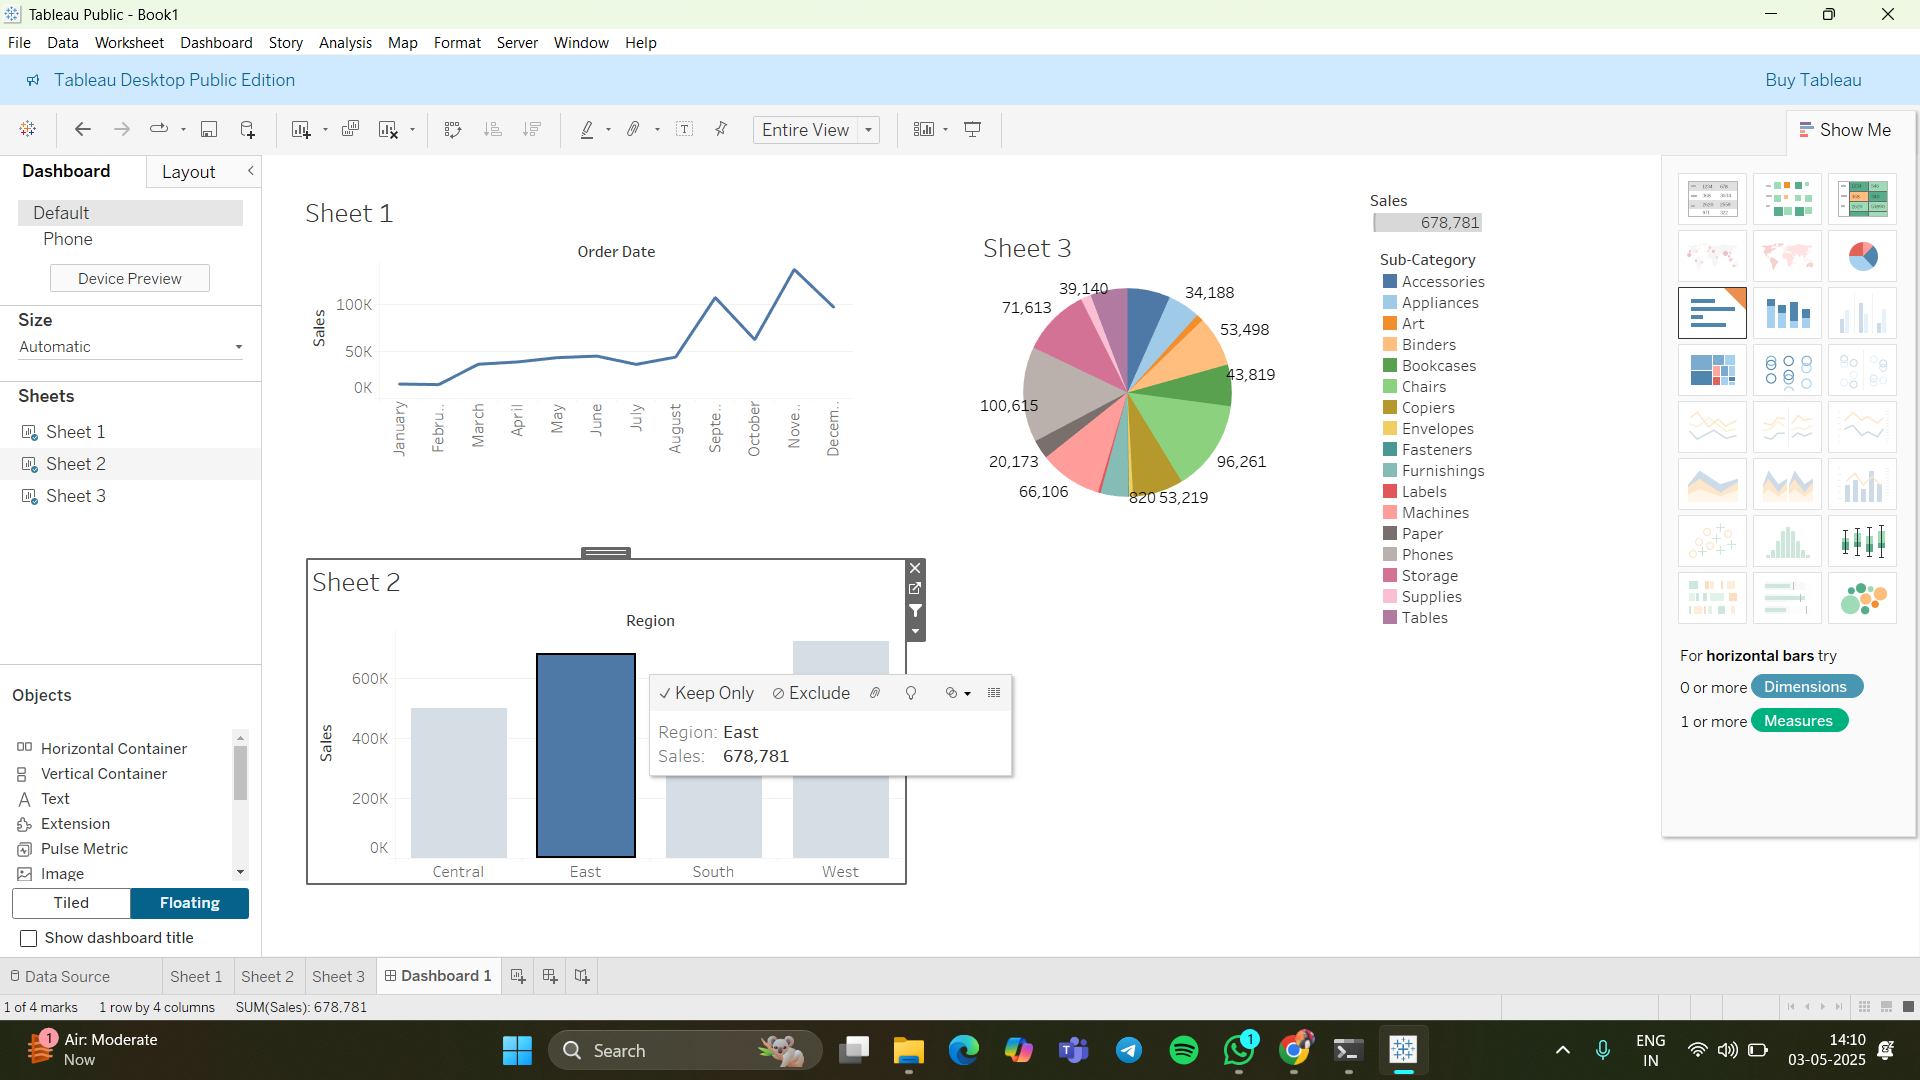

Layout of this report page (visuals, bound fields, positions):
{"tool":"tableau","page":{"name":"Dashboard 1","canvas":[1000,1000],"units":"permille","ordinal":0},"visuals":[{"type":"legend","title":"Sheet 3","param":"[federated.183qhyj1dasz6716432tl1qmbu8s].[sum:Sales:qk]","box":[668.7,43.7,68.8,63.7]},{"type":"worksheet","title":"Sheet 1","mark":"Automatic","rows":["Sales"],"cols":["Order Date"],"box":[23.5,44.9,333.1,333.3]},{"type":"worksheet","title":"Sheet 3","mark":"Pie","box":[432.7,88.6,304.8,402]},{"type":"legend","title":"Sheet 3","param":"[federated.183qhyj1dasz6716432tl1qmbu8s].[none:Sub-Category:nk]","box":[674.7,117.4,84.5,473.2]},{"type":"worksheet","title":"Sheet 2","mark":"Automatic","rows":["Sales"],"cols":["Region"],"box":[27.8,505.6,360.3,403.2]}]}

Visuals, with their boxes on the dashboard's canvas, which has no fixed pixel size, in thousandths of its width and height (x1, y1, x2, y2). These are canvas units, not pixel positions in the 1920x1080 screenshot, which may show the page scaled, cropped or inside an application window:
"Sheet 3" legend: x1=669, y1=44, x2=738, y2=107
"Sheet 1" worksheet: x1=24, y1=45, x2=357, y2=378
"Sheet 3" worksheet (Pie marks): x1=433, y1=89, x2=738, y2=491
"Sheet 3" legend: x1=675, y1=117, x2=759, y2=591
"Sheet 2" worksheet: x1=28, y1=506, x2=388, y2=909
